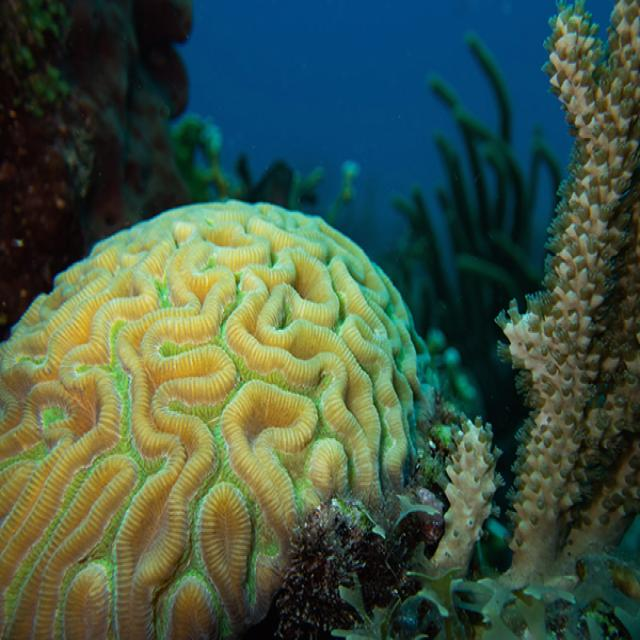Coral: (0, 198, 441, 640), (426, 0, 640, 605)
